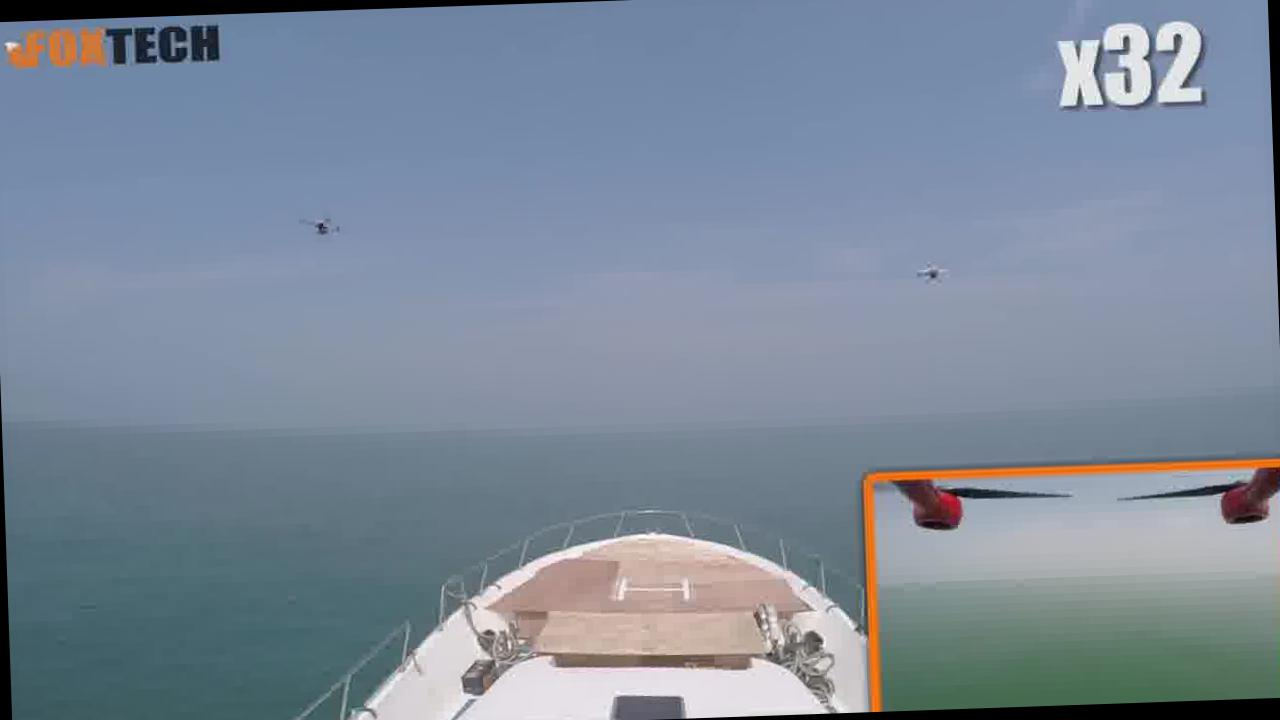drone: (295, 188, 386, 259), (908, 255, 962, 290)
